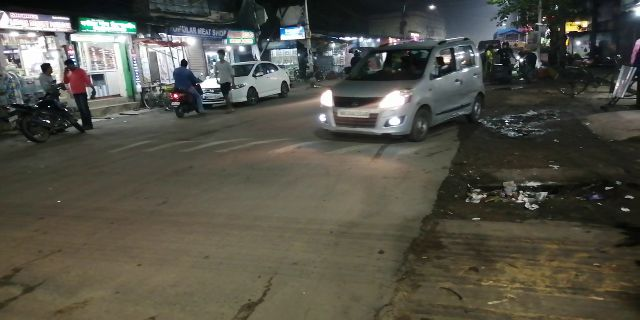Car: (316, 37, 483, 140), (196, 59, 301, 107)
Motorbike: (166, 56, 204, 123)
